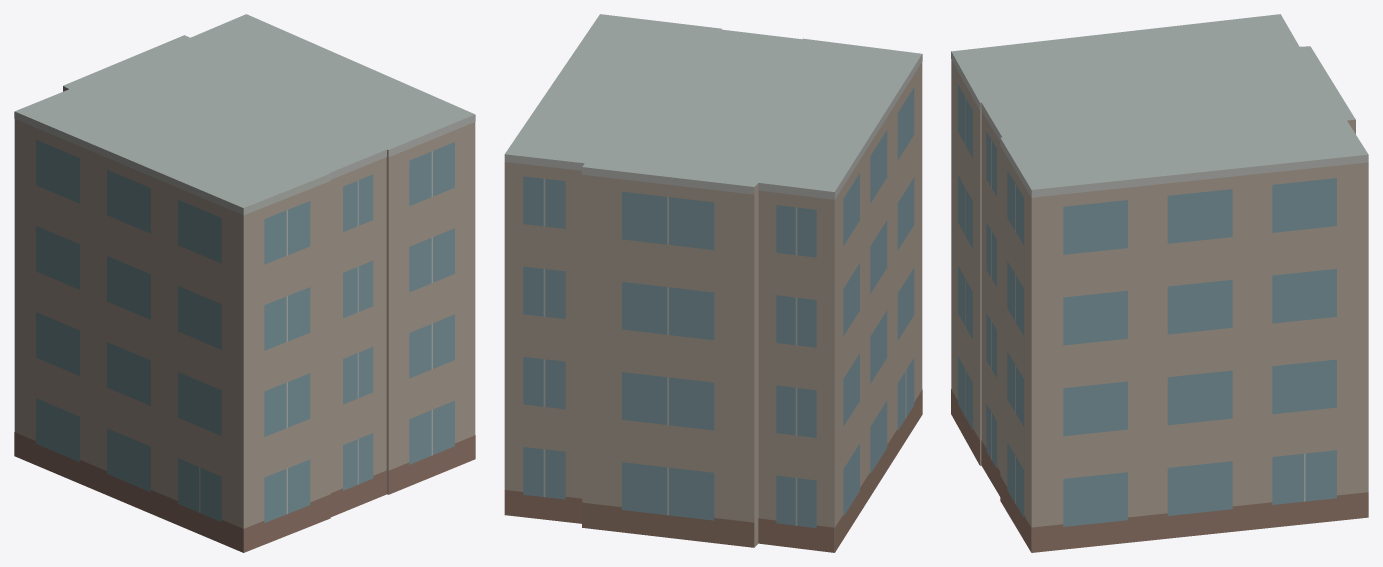
Rendered from survey-upis-32671606.glb.
3 views of the same model, side by side, from view 1: azimuth 30°, elevation 25°; view 2: azimuth 150°, elevation 25°; view 3: azimuth 270°, elevation 25° (orthographic). The views are drawn at different scales.
Parts seen in each view (by area): view 1: survey-upis-32671606.tmp; view 2: survey-upis-32671606.tmp; view 3: survey-upis-32671606.tmp.
Boxes of the visible parts, x1,y1,x2,y2 form: survey-upis-32671606.tmp: (14,14,475,552); survey-upis-32671606.tmp: (504,14,922,552); survey-upis-32671606.tmp: (951,14,1368,552).
Size of the model in its own units: 11.97 by 11.5 by 12.
